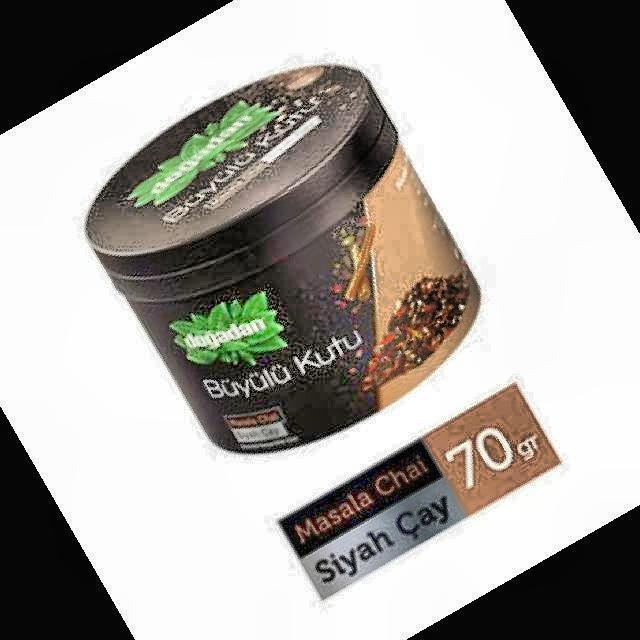plastic: (86, 65, 479, 452)
